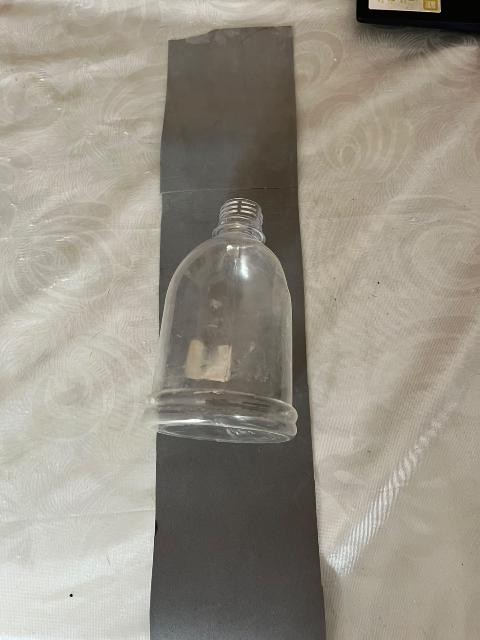PET: (129, 176, 329, 468)
